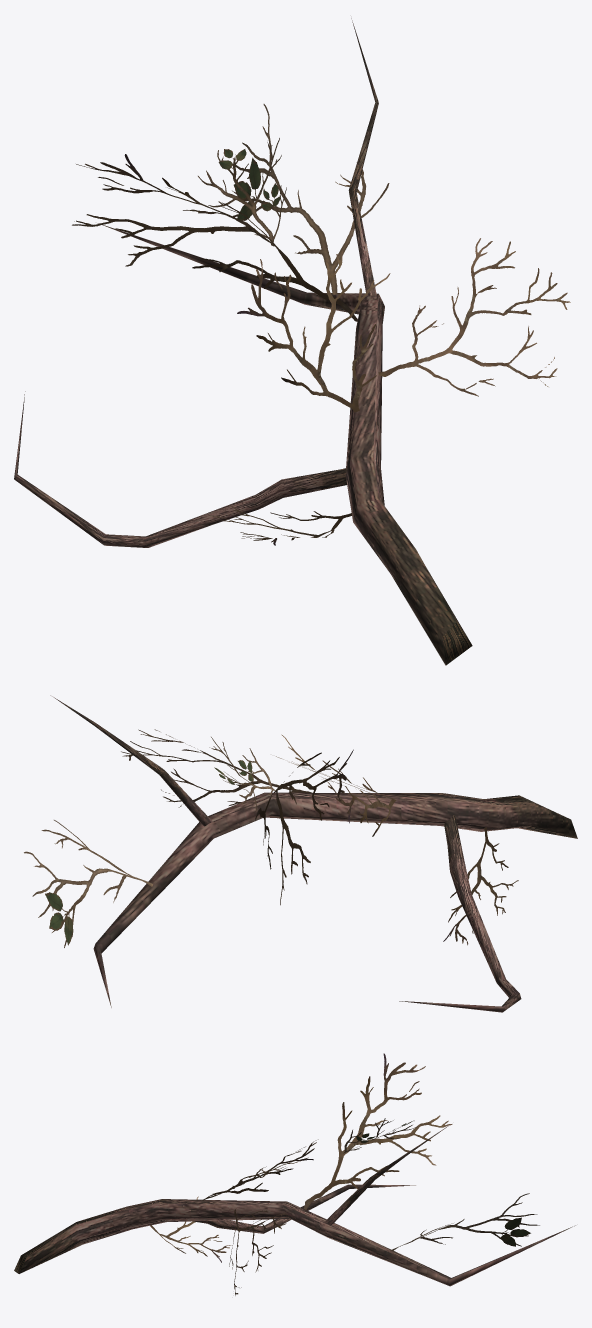
The model's file is Debris_Branch_02.FBX.
3 views of the same model, one above another, from view 1: azimuth 30°, elevation 25°; view 2: azimuth 150°, elevation 25°; view 3: azimuth 270°, elevation 25° (orthographic). The views are drawn at different scales.
Visible parts, largest first — view 1: Debris_Branch_02; view 2: Debris_Branch_02; view 3: Debris_Branch_02.
Part boxes in pixels (bbox=[...]): Debris_Branch_02: bbox=[14, 18, 570, 665]; Debris_Branch_02: bbox=[24, 695, 577, 1012]; Debris_Branch_02: bbox=[14, 1053, 575, 1295].
Bounding box in the file's own units: 169 × 113 × 255.
